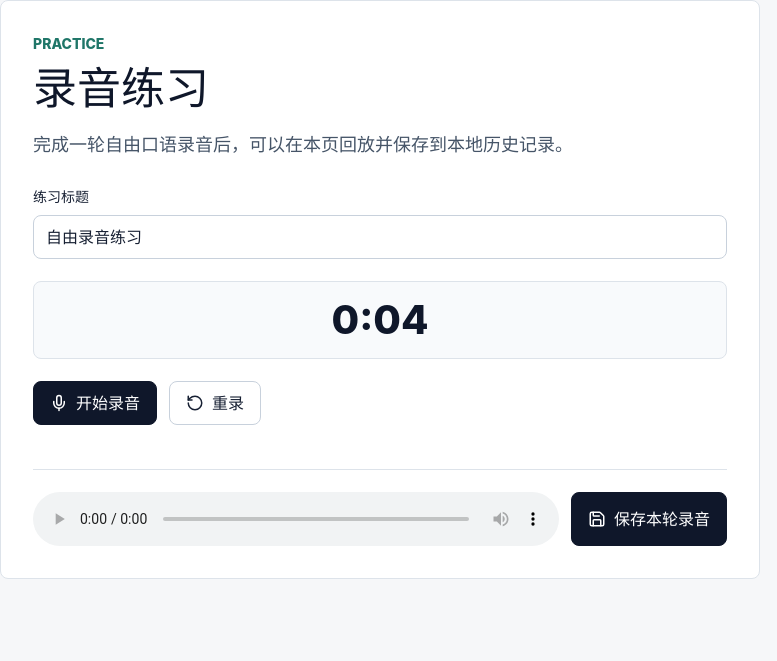
Scenario: PracticePage recording flow › shows a recoverable error when saving fails
Click the button "保存本轮录音": (649, 519) [571,492,727,546]
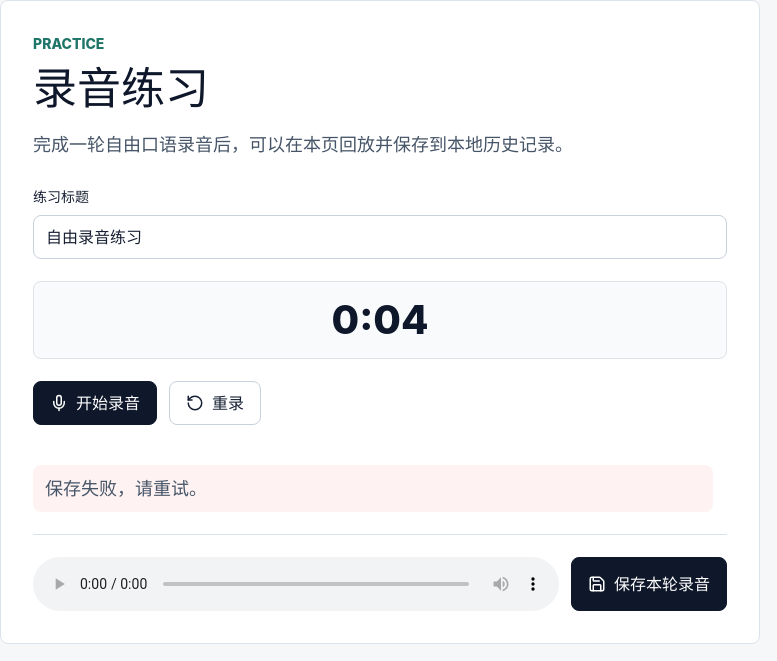
Expected: the button "保存本轮录音" is enabled, [571,557,727,611]
Now the text "保存失败，请重试。" is shown, box [33,465,713,512]
